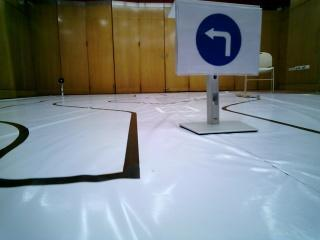left: (185, 6, 255, 70)
